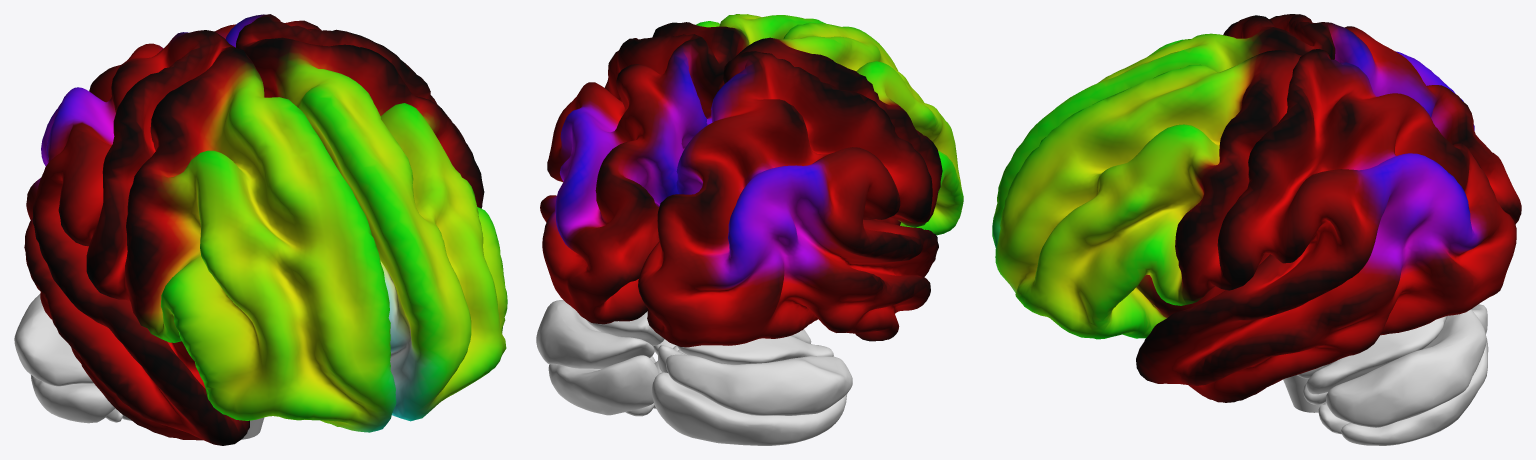
The model's file is brain.glb.
3 renders of one model, left to right at view 1: azimuth 30°, elevation 25°; view 2: azimuth 150°, elevation 25°; view 3: azimuth 270°, elevation 25°, orthographic. The views are drawn at different scales.
Parts seen in each view (by area): view 1: CerebralCortex, Cerebellum; view 2: CerebralCortex, Cerebellum; view 3: CerebralCortex, Cerebellum, Brainstem.
Boxes of the visible parts, left/top/right/bottom form: CerebralCortex: left=24, top=14, right=507, bottom=445; Cerebellum: left=14, top=294, right=131, bottom=423; CerebralCortex: left=540, top=14, right=963, bottom=347; Cerebellum: left=536, top=300, right=852, bottom=445; CerebralCortex: left=992, top=14, right=1521, bottom=402; Cerebellum: left=1297, top=304, right=1488, bottom=445; Brainstem: left=1283, top=375, right=1325, bottom=412.
Size of the model in its own units: 2.33 by 2.32 by 3.04.
